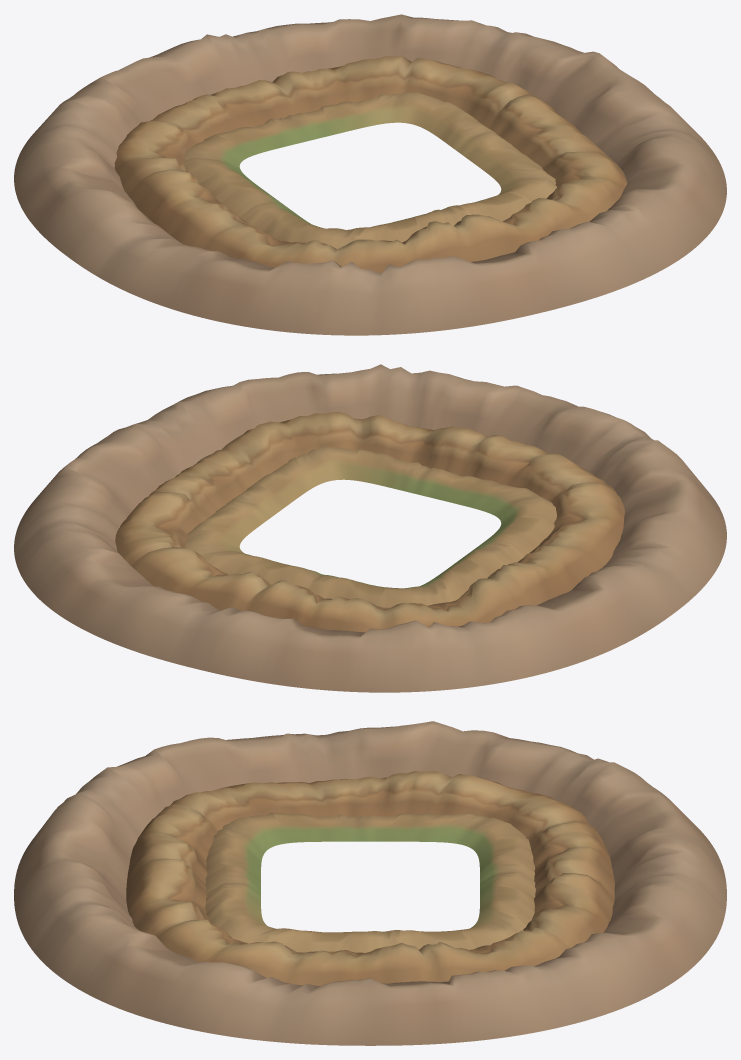
File: backdrop_hills.glb
3 renders of one model, top to bottom at view 1: azimuth 30°, elevation 25°; view 2: azimuth 150°, elevation 25°; view 3: azimuth 270°, elevation 25°, orthographic. The views are drawn at different scales.
Visible parts, largest first — view 1: backdrop_hills; view 2: backdrop_hills; view 3: backdrop_hills.
Boxes of the visible parts, <box> form: backdrop_hills: <box>14,14,726,335</box>; backdrop_hills: <box>14,364,726,692</box>; backdrop_hills: <box>14,721,726,1045</box>.
Bounding box in the file's own units: 1628 × 121 × 1628.
